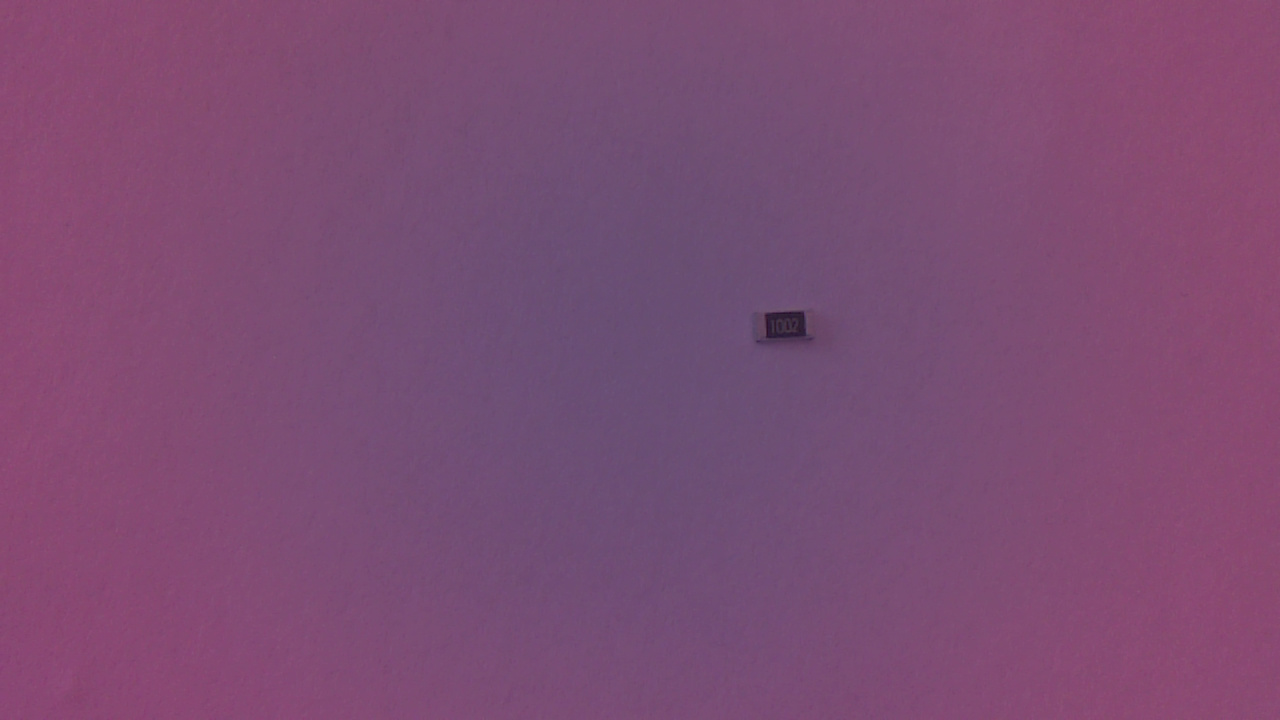Resistor: (754, 310, 825, 350)
